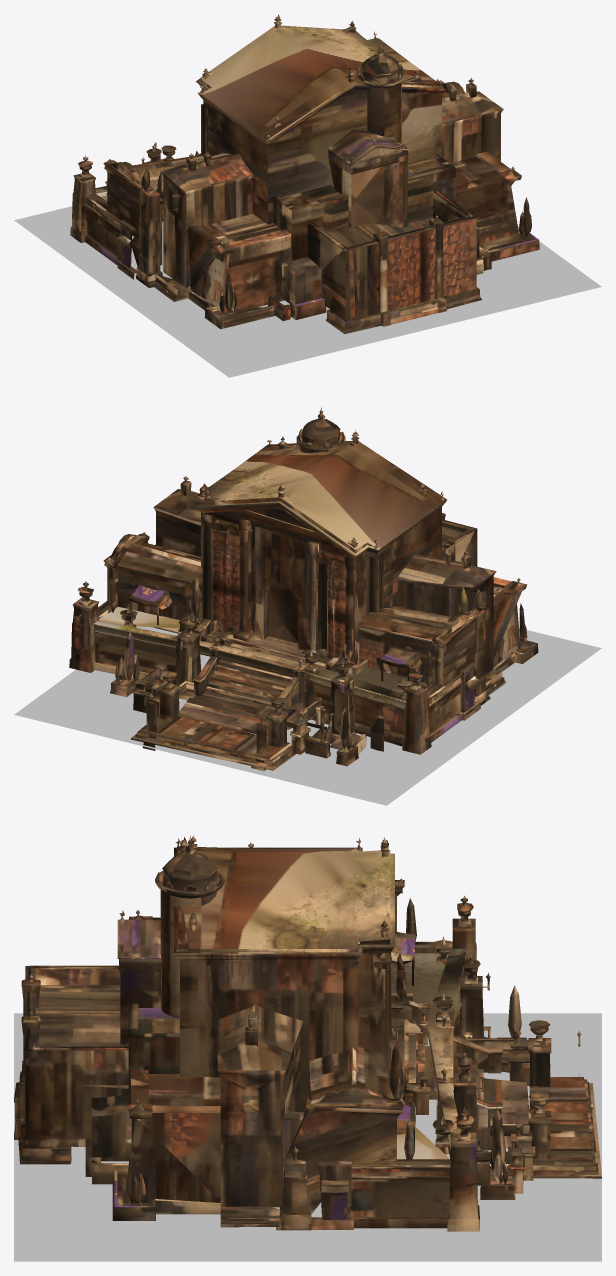
The model's file is HeadquartersGroundedReview.fbx.
The picture shows the model from 3 angles, top to bottom: view 1: azimuth 30°, elevation 25°; view 2: azimuth 150°, elevation 25°; view 3: azimuth 270°, elevation 25°; orthographic projection. The views are drawn at different scales.
Parts seen in each view (by area): view 1: HeadquartersGroundedReview_OriginalArchitecture, HeadquartersGroundedReview_FeatherGround; view 2: HeadquartersGroundedReview_OriginalArchitecture, HeadquartersGroundedReview_FeatherGround; view 3: HeadquartersGroundedReview_OriginalArchitecture, HeadquartersGroundedReview_FeatherGround.
Part boxes in pixels (bbox=[...]): HeadquartersGroundedReview_OriginalArchitecture: bbox=[70, 14, 539, 334]; HeadquartersGroundedReview_FeatherGround: bbox=[14, 206, 601, 377]; HeadquartersGroundedReview_OriginalArchitecture: bbox=[69, 407, 538, 770]; HeadquartersGroundedReview_FeatherGround: bbox=[14, 626, 601, 805]; HeadquartersGroundedReview_OriginalArchitecture: bbox=[14, 835, 601, 1231]; HeadquartersGroundedReview_FeatherGround: bbox=[14, 1013, 601, 1261].
Bounding box in the file's own units: 12 × 7.37 × 12.
